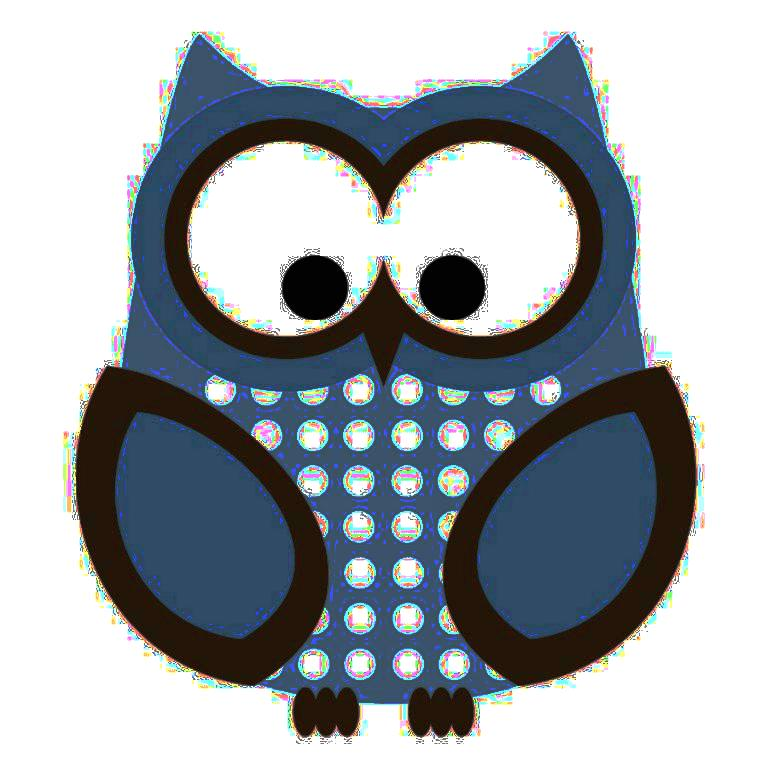Owl: (70, 30, 701, 741)
